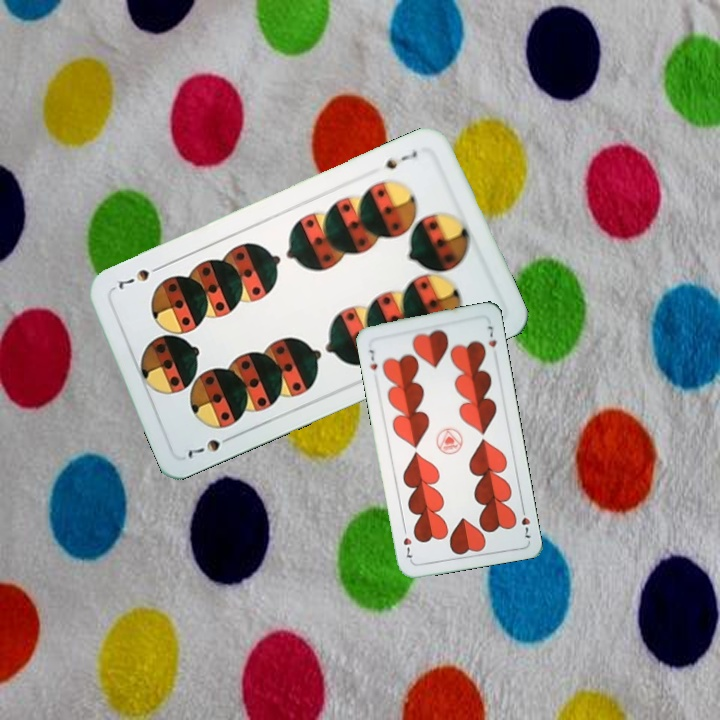H7: (517, 502, 533, 541), (365, 345, 380, 372)
S7: (183, 431, 238, 461), (381, 146, 420, 172)
